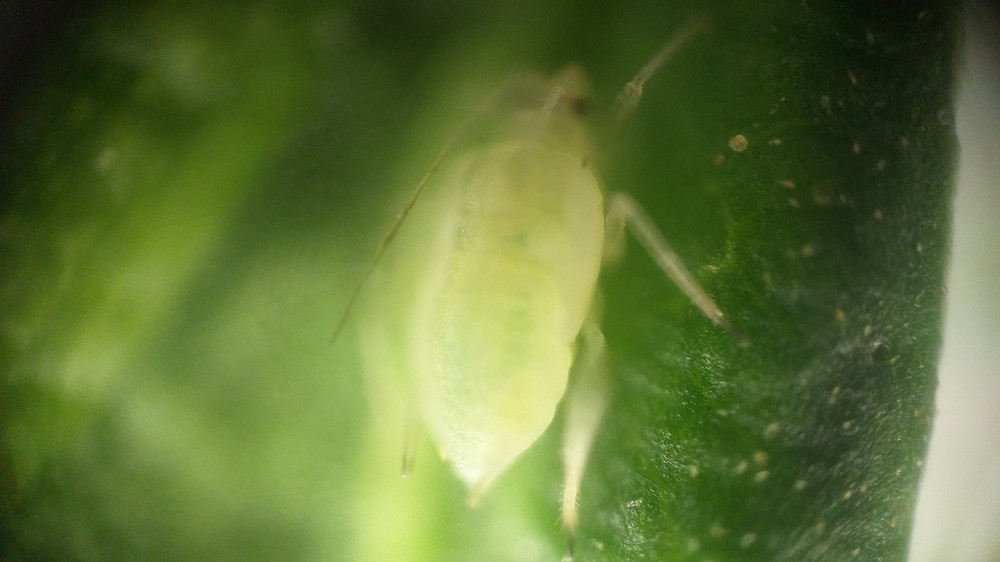Pulgon: (310, 28, 739, 558)
